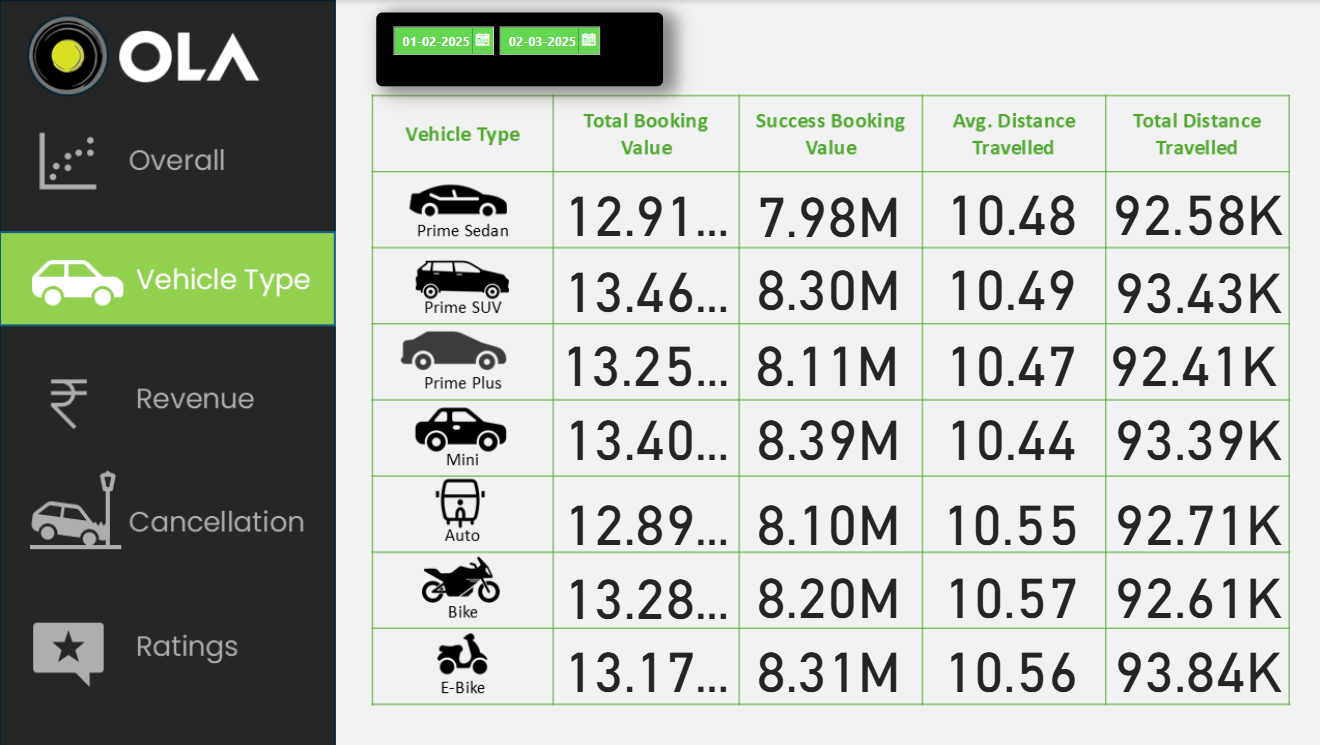

What the dashboard file says about the page in this screenshot:
{"tool":"powerbi","page":{"name":"Vehicle Type 2","canvas":[1280,720],"ordinal":1},"visuals":[{"type":"card","fields":{"Values":["Sum(Sheet1.Booking Value)"]},"box":[535.7,166.5,176.1,71.2],"z":0},{"type":"card","fields":{"Values":["Sum(Sheet1.Booking Value)"]},"box":[533.9,311.5,176.2,71.2],"z":1000},{"type":"card","fields":{"Values":["Sum(Sheet1.Booking Value)"]},"box":[535.7,382.7,176.2,71.2],"z":2000},{"type":"card","fields":{"Values":["Sum(Sheet1.Booking Value)"]},"box":[535.7,464.5,176.2,71.2],"z":3000},{"type":"card","fields":{"Values":["Sum(Sheet1.Booking Value)"]},"box":[535.7,535.7,176.2,71.2],"z":4000},{"type":"card","fields":{"Values":["Sum(Sheet1.Booking Value)"]},"box":[535.7,606.9,176.2,71.2],"z":5000},{"type":"card","fields":{"Values":["Sum(Sheet1.Booking Value)"]},"box":[535.7,240.3,176.2,71.2],"z":6000},{"type":"card","fields":{"Values":["Sum(Sheet1.Booking Value)"]},"box":[711.6,167.3,175.8,70.9],"z":7000},{"type":"card","fields":{"Values":["Sum(Sheet1.Booking Value)"]},"box":[711.6,238.1,175.8,70.9],"z":8000},{"type":"card","fields":{"Values":["Sum(Sheet1.Booking Value)"]},"box":[710.2,311.8,175.8,70.9],"z":9000},{"type":"card","fields":{"Values":["Sum(Sheet1.Booking Value)"]},"box":[711.6,382.7,175.8,70.9],"z":10000},{"type":"card","fields":{"Values":["Sum(Sheet1.Booking Value)"]},"box":[711.6,464.9,175.8,70.9],"z":11000},{"type":"card","fields":{"Values":["Sum(Sheet1.Booking Value)"]},"box":[711.6,535.8,175.8,70.9],"z":12000},{"type":"card","fields":{"Values":["Sum(Sheet1.Booking Value)"]},"box":[711.6,606.7,175.8,70.9],"z":13000},{"type":"card","fields":{"Values":["Avg(Sheet1.Ride Distance)"]},"box":[887.4,165.8,177.2,70.9],"z":14000},{"type":"card","fields":{"Values":["Avg(Sheet1.Ride Distance)"]},"box":[887.4,311.8,175.8,70.9],"z":15000},{"type":"card","fields":{"Values":["Avg(Sheet1.Ride Distance)"]},"box":[887.4,382.7,175.8,70.9],"z":16000},{"type":"card","fields":{"Values":["Avg(Sheet1.Ride Distance)"]},"box":[887.4,464.9,175.8,70.9],"z":17000},{"type":"card","fields":{"Values":["Avg(Sheet1.Ride Distance)"]},"box":[887.4,535.8,175.8,70.9],"z":18000},{"type":"card","fields":{"Values":["Avg(Sheet1.Ride Distance)"]},"box":[887.4,606.7,175.8,70.9],"z":19000},{"type":"card","fields":{"Values":["Avg(Sheet1.Ride Distance)"]},"box":[887.4,238.1,175.8,70.9],"z":20000},{"type":"card","fields":{"Values":["Sum(Sheet1.Ride Distance)"]},"box":[1064.5,165.8,184.3,70.9],"z":21000},{"type":"card","fields":{"Values":["Sum(Sheet1.Ride Distance)"]},"box":[1064.5,311.8,175.8,70.9],"z":22000},{"type":"card","fields":{"Values":["Sum(Sheet1.Ride Distance)"]},"box":[1068.8,382.7,175.8,70.9],"z":23000},{"type":"card","fields":{"Values":["Sum(Sheet1.Ride Distance)"]},"box":[1068.8,464.9,175.8,70.9],"z":24000},{"type":"card","fields":{"Values":["Sum(Sheet1.Ride Distance)"]},"box":[1068.8,535.8,175.8,70.9],"z":25000},{"type":"card","fields":{"Values":["Sum(Sheet1.Ride Distance)"]},"box":[1068.8,606.7,175.8,70.9],"z":26000},{"type":"card","fields":{"Values":["Sum(Sheet1.Ride Distance)"]},"box":[1068.8,241,175.8,70.9],"z":27000},{"type":"slicer","title":"Date","fields":{"Values":["Sheet1.Date"]},"box":[363.3,12.4,276.5,70.9],"z":28000}]}

Visuals, with their boxes on the page's 1280x720 design canvas (x1, y1, x2, y2). These are canvas units, not pixel positions in the 1320x745 screenshot, which may show the page scaled, cropped or inside an application window:
card - Sum(Sheet1.Booking Value): 536 166 712 238
card - Sum(Sheet1.Booking Value): 534 312 710 383
card - Sum(Sheet1.Booking Value): 536 383 712 454
card - Sum(Sheet1.Booking Value): 536 464 712 536
card - Sum(Sheet1.Booking Value): 536 536 712 607
card - Sum(Sheet1.Booking Value): 536 607 712 678
card - Sum(Sheet1.Booking Value): 536 240 712 312
card - Sum(Sheet1.Booking Value): 712 167 887 238
card - Sum(Sheet1.Booking Value): 712 238 887 309
card - Sum(Sheet1.Booking Value): 710 312 886 383
card - Sum(Sheet1.Booking Value): 712 383 887 454
card - Sum(Sheet1.Booking Value): 712 465 887 536
card - Sum(Sheet1.Booking Value): 712 536 887 607
card - Sum(Sheet1.Booking Value): 712 607 887 678
card - Avg(Sheet1.Ride Distance): 887 166 1065 237
card - Avg(Sheet1.Ride Distance): 887 312 1063 383
card - Avg(Sheet1.Ride Distance): 887 383 1063 454
card - Avg(Sheet1.Ride Distance): 887 465 1063 536
card - Avg(Sheet1.Ride Distance): 887 536 1063 607
card - Avg(Sheet1.Ride Distance): 887 607 1063 678
card - Avg(Sheet1.Ride Distance): 887 238 1063 309
card - Sum(Sheet1.Ride Distance): 1064 166 1249 237
card - Sum(Sheet1.Ride Distance): 1064 312 1240 383
card - Sum(Sheet1.Ride Distance): 1069 383 1245 454
card - Sum(Sheet1.Ride Distance): 1069 465 1245 536
card - Sum(Sheet1.Ride Distance): 1069 536 1245 607
card - Sum(Sheet1.Ride Distance): 1069 607 1245 678
card - Sum(Sheet1.Ride Distance): 1069 241 1245 312
"Date" slicer: 363 12 640 83
